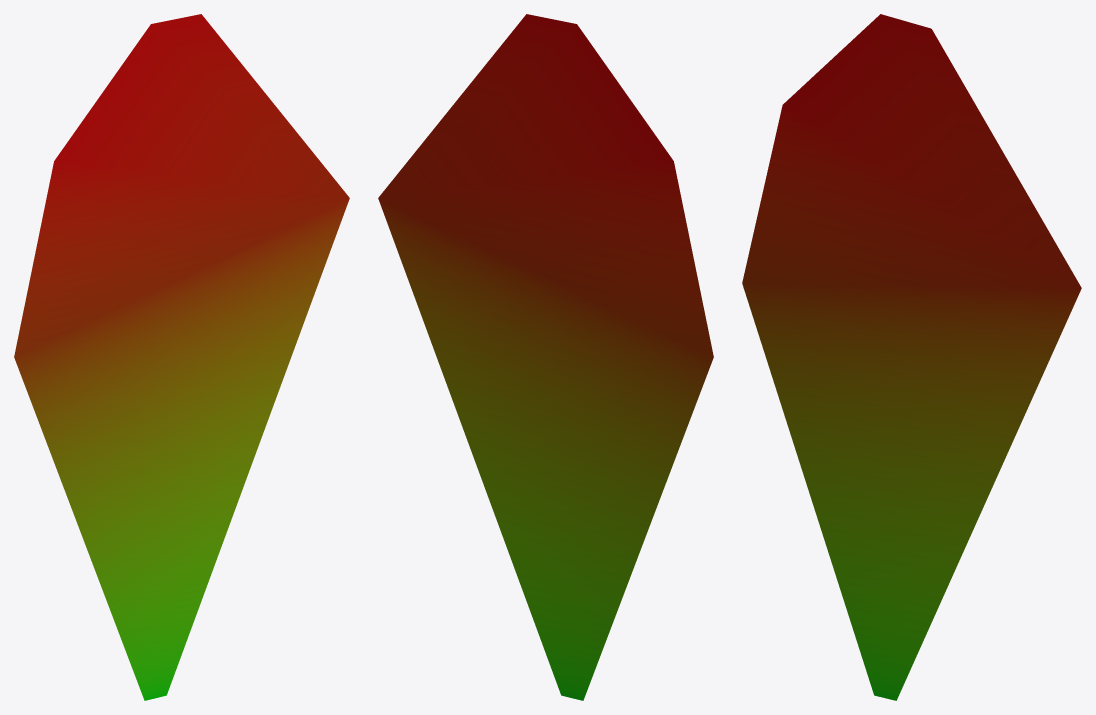
File: Wild Grass_LOD4_Var16_vlkhcbxia.fbx
The picture shows the model from 3 angles, left to right: view 1: azimuth 30°, elevation 25°; view 2: azimuth 150°, elevation 25°; view 3: azimuth 330°, elevation 25°; orthographic projection.
Visible parts, largest first — view 1: _hhem_Var16_LOD4; view 2: _hhem_Var16_LOD4; view 3: _hhem_Var16_LOD4.
Boxes of the visible parts, x1,y1,x2,y2 form: _hhem_Var16_LOD4: (14, 14, 349, 700); _hhem_Var16_LOD4: (378, 14, 713, 700); _hhem_Var16_LOD4: (742, 14, 1081, 700).
Bounding box in the file's own units: 9.34 × 17.96 × 7.85e-07.
